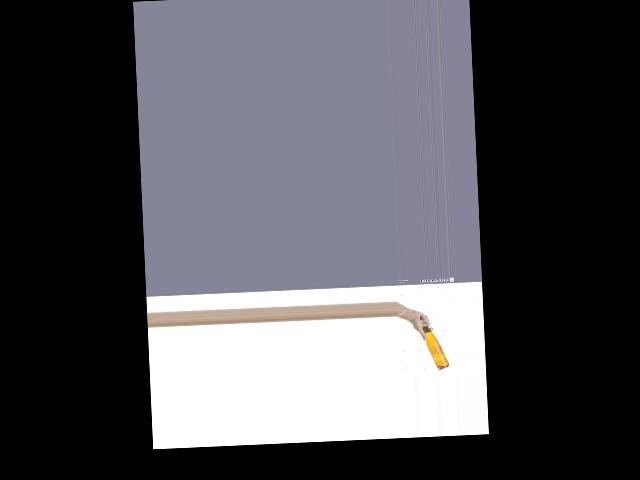beer: (420, 315, 449, 371)
